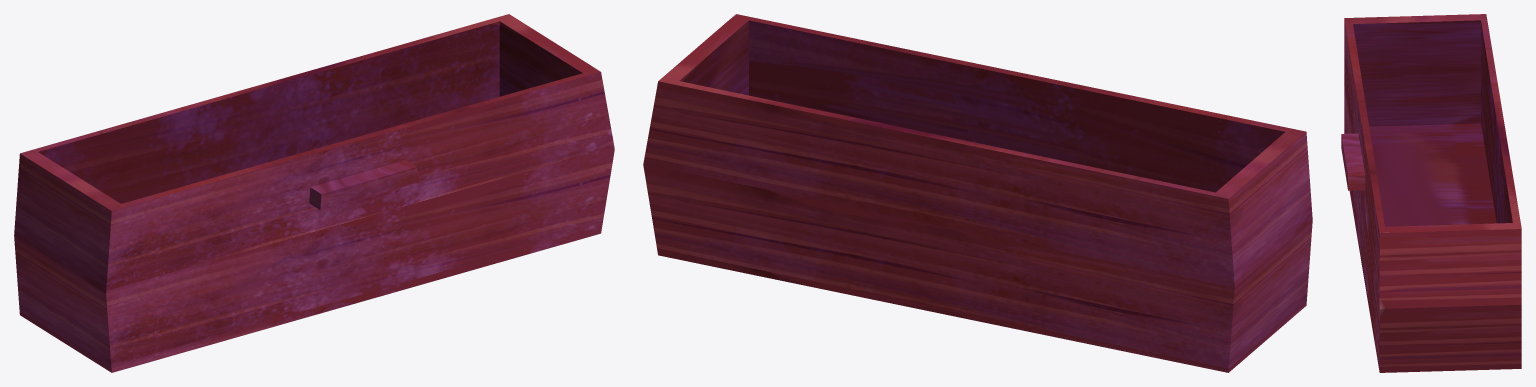
File: EscritorioL_cajon1.glb
3 renders of one model, left to right at view 1: azimuth 30°, elevation 25°; view 2: azimuth 150°, elevation 25°; view 3: azimuth 270°, elevation 25°, orthographic. The views are drawn at different scales.
Parts seen in each view (by area): view 1: E_escritorioL_cajon1; view 2: E_escritorioL_cajon1; view 3: E_escritorioL_cajon1.
Part boxes in pixels (left/top/right/bottom): E_escritorioL_cajon1: left=14, top=14, right=614, bottom=372; E_escritorioL_cajon1: left=643, top=14, right=1312, bottom=372; E_escritorioL_cajon1: left=1341, top=14, right=1521, bottom=372.
Size of the model in its own units: 4.19 by 1.2 by 1.41.
1 material, 1 textured.
